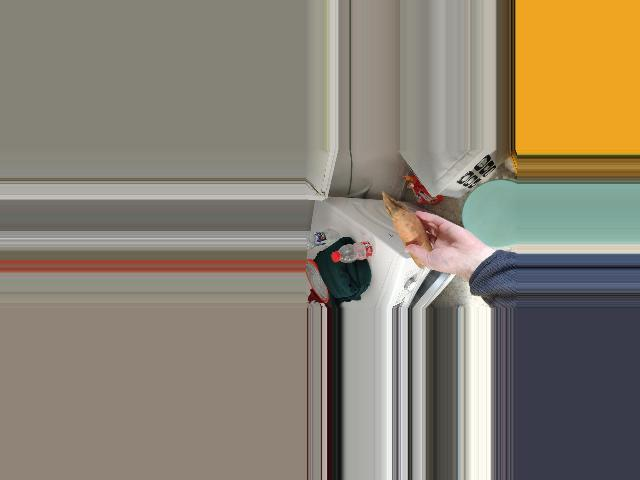sweet_potato: (394, 213, 434, 260)
